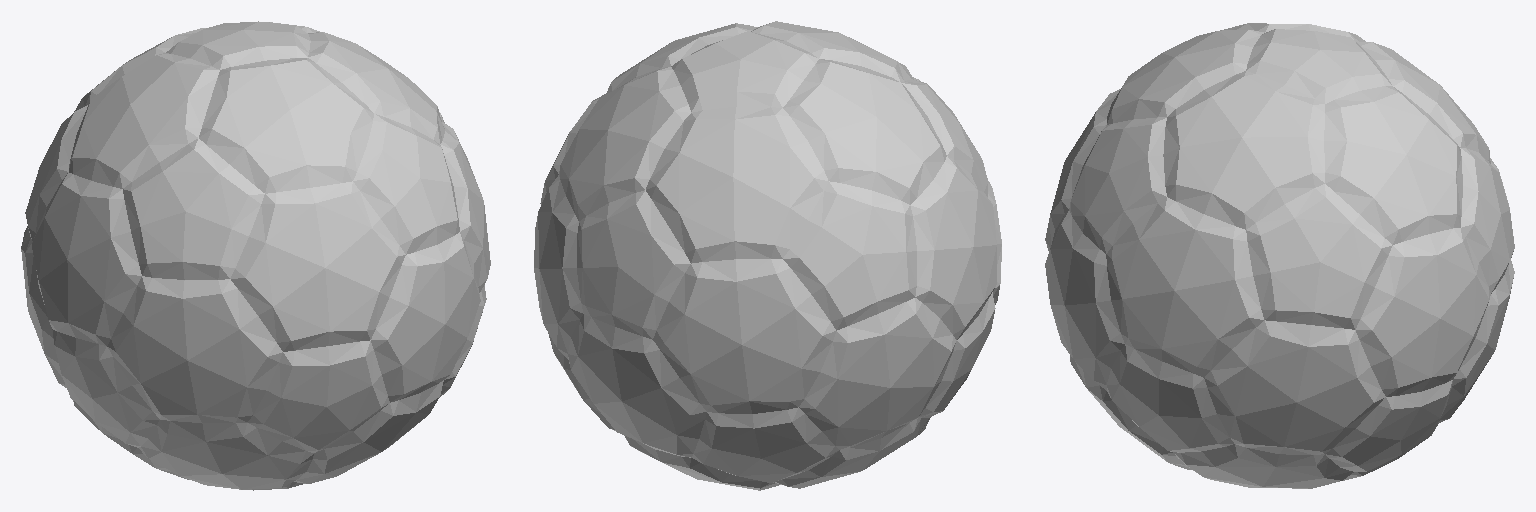
The model's file is soccerball.obj.
The picture shows the model from 3 angles: view 1: azimuth 30°, elevation 25°; view 2: azimuth 150°, elevation 25°; view 3: azimuth 270°, elevation 25°; orthographic projection.
Visible parts, largest first — view 1: Soccer_Ball; view 2: Soccer_Ball; view 3: Soccer_Ball.
Part boxes in pixels (bbox=[...]): Soccer_Ball: bbox=[21, 21, 490, 490]; Soccer_Ball: bbox=[534, 21, 1001, 490]; Soccer_Ball: bbox=[1045, 23, 1514, 488].
Bounding box in the file's own units: 0.1823 × 0.1834 × 0.1833.